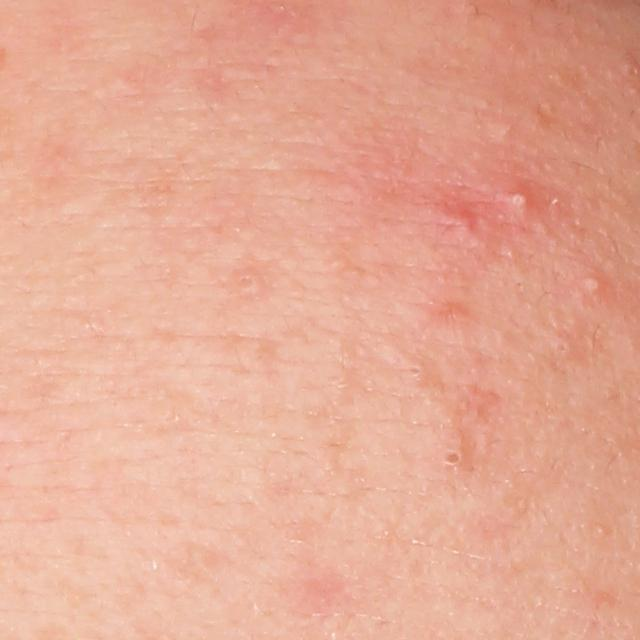comedo: (398, 360, 432, 392), (236, 268, 267, 299), (436, 443, 468, 473), (553, 334, 575, 358)
papule: (428, 195, 482, 240)
pustule: (489, 175, 544, 217)
